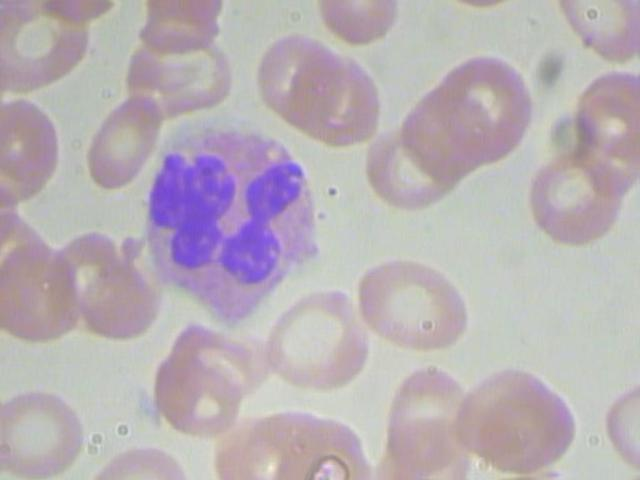RBC: (349, 245, 478, 361), (255, 276, 366, 403), (433, 49, 546, 156), (447, 359, 554, 460), (530, 141, 629, 248), (3, 380, 100, 480), (134, 350, 245, 437), (164, 318, 267, 402), (299, 51, 393, 141), (82, 93, 163, 190), (0, 382, 3, 480)
WBC: (249, 27, 341, 123)
